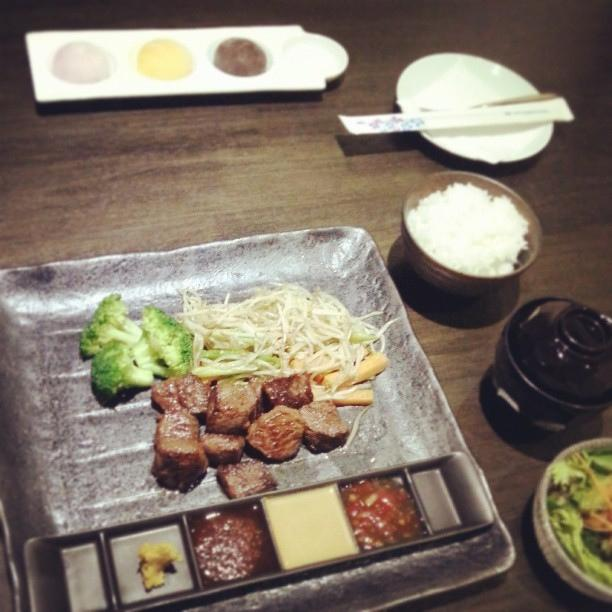broccoli: (132, 306, 194, 378), (79, 294, 142, 362), (91, 338, 154, 395)
